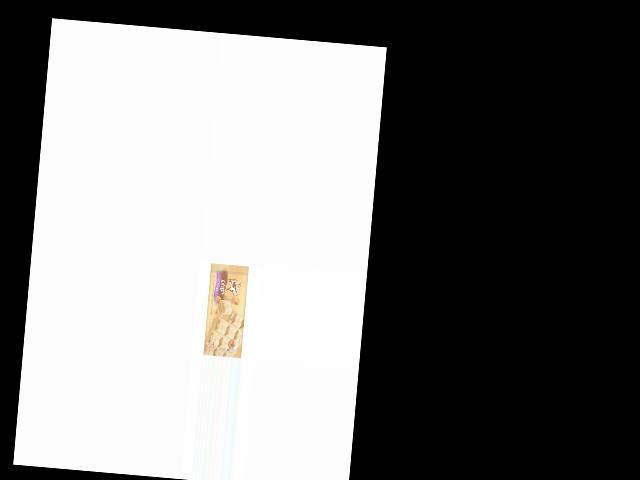chocolate: (200, 260, 248, 358)
